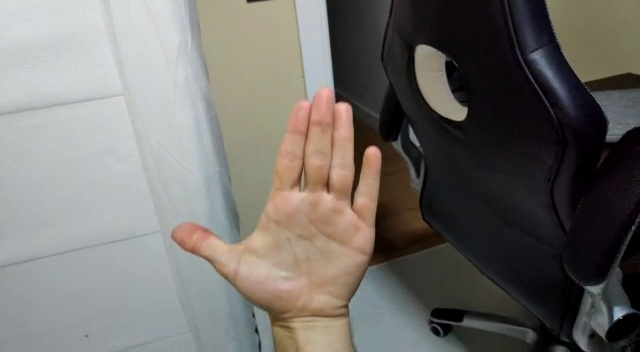Palm: (170, 83, 385, 334)
